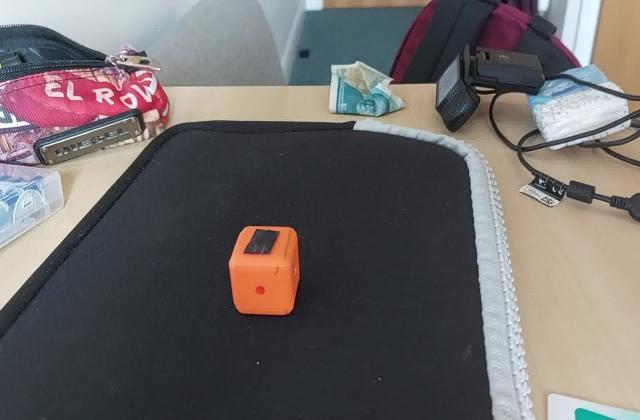black: (242, 227, 284, 257)
cube: (226, 223, 301, 318)
